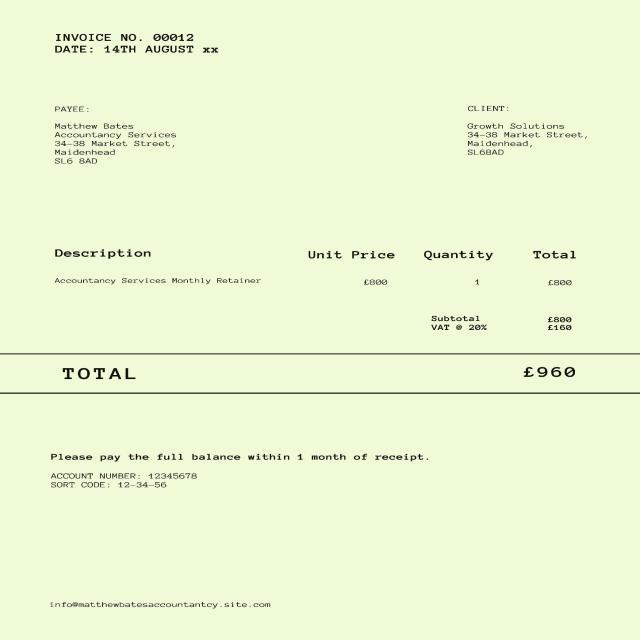ROI: (29, 232, 582, 296), (24, 357, 590, 388), (41, 104, 189, 170), (454, 102, 594, 166), (33, 444, 431, 464), (45, 591, 278, 618), (421, 312, 589, 338), (35, 469, 208, 492), (54, 45, 224, 57), (54, 30, 206, 42)
